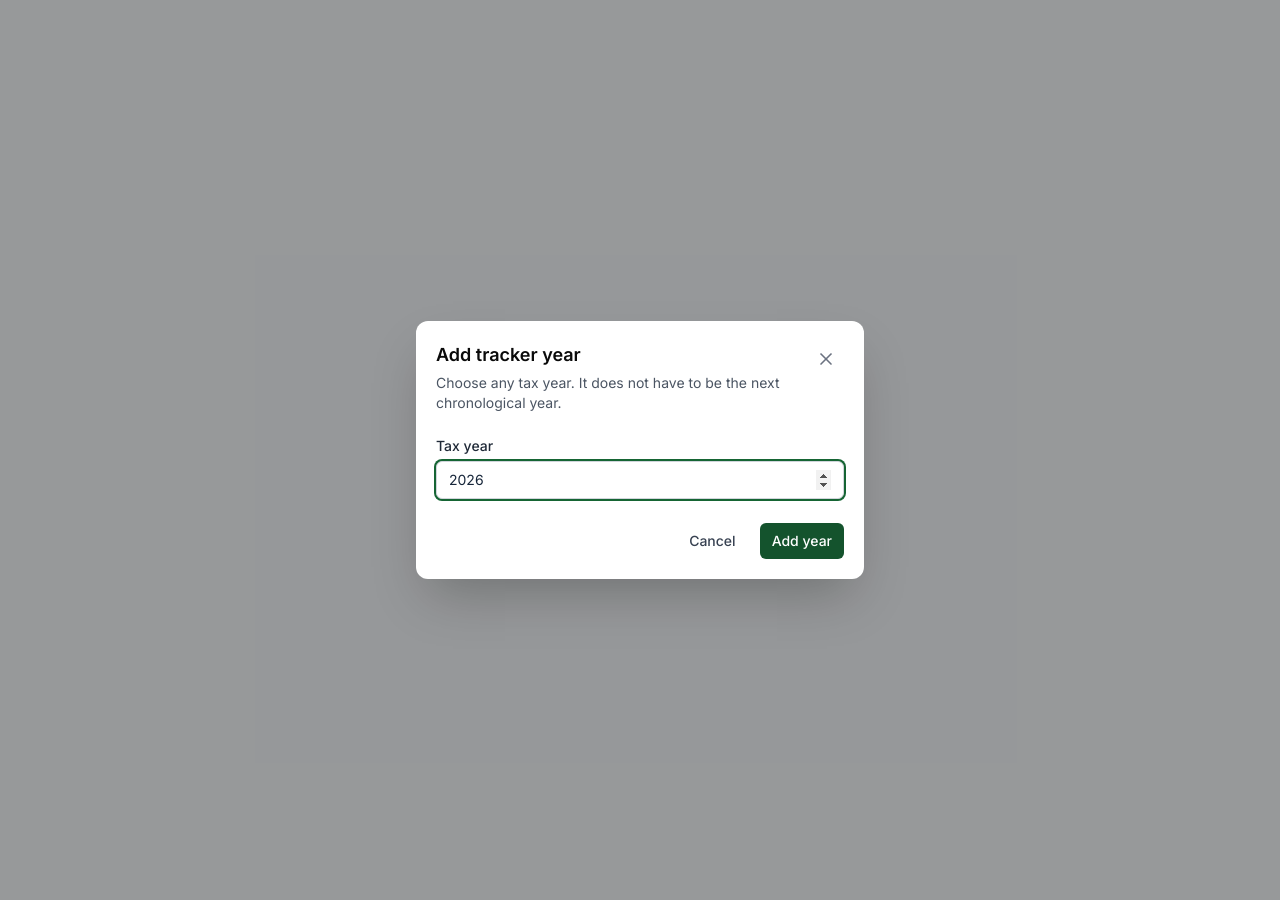
Test: AddYearDialog › rejects an out-of-range tax year before creating anything
Clear the number field labelled "Tax year" at (640, 480), box [436, 461, 844, 499]
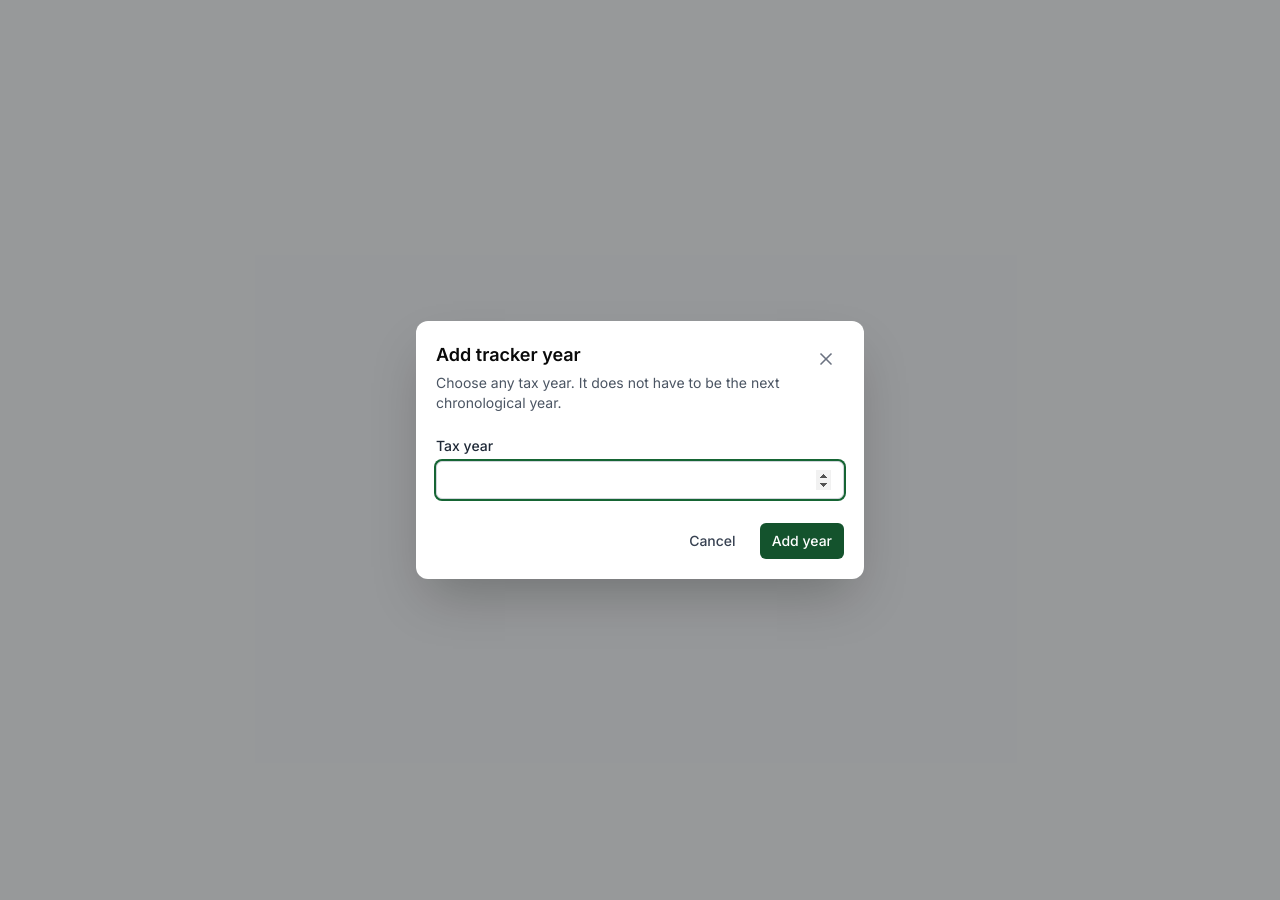
Click the button "Add year".
click(802, 541)  # box [760, 523, 844, 559]
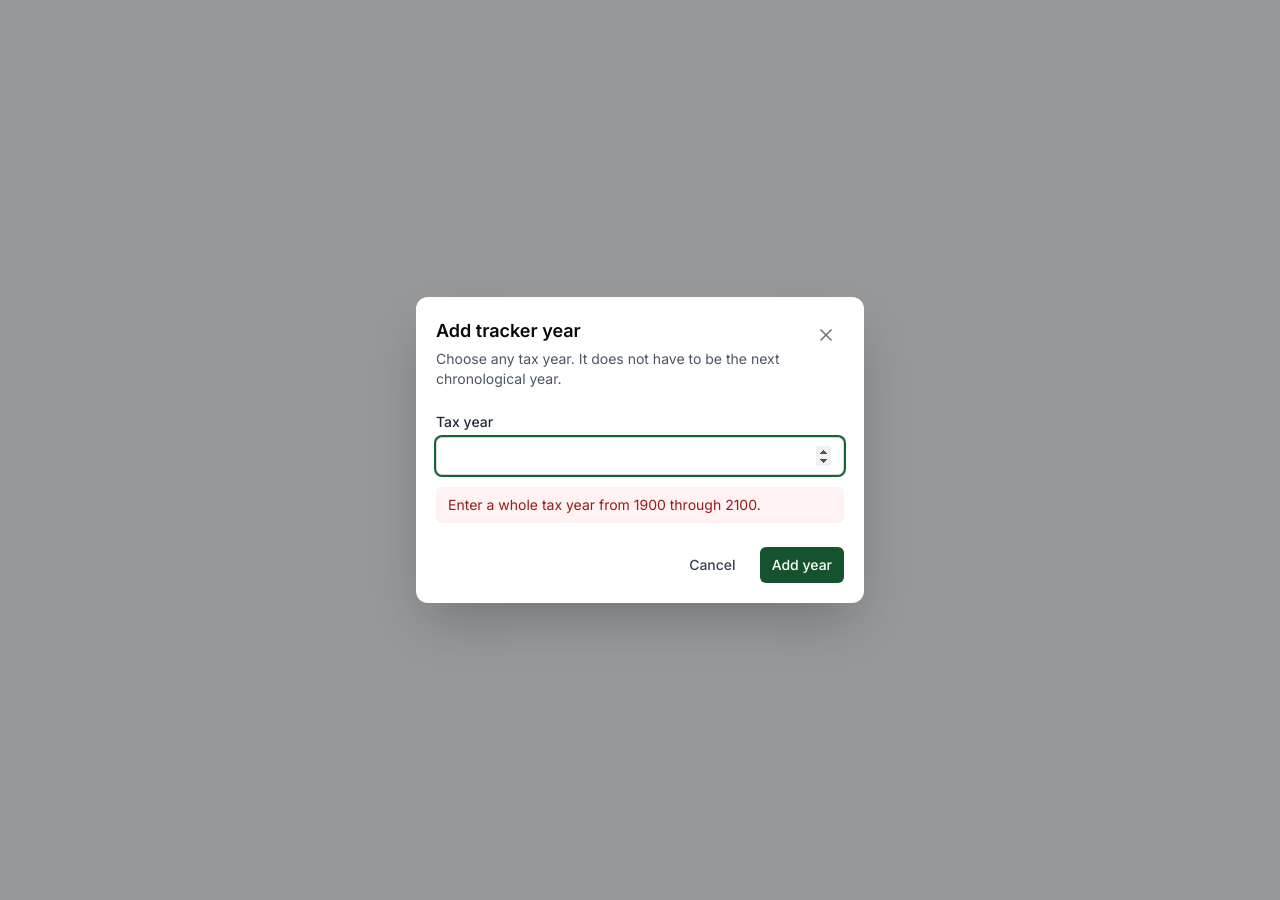
Expected: the message shows "1900 through 2100", [448, 496, 761, 513]
